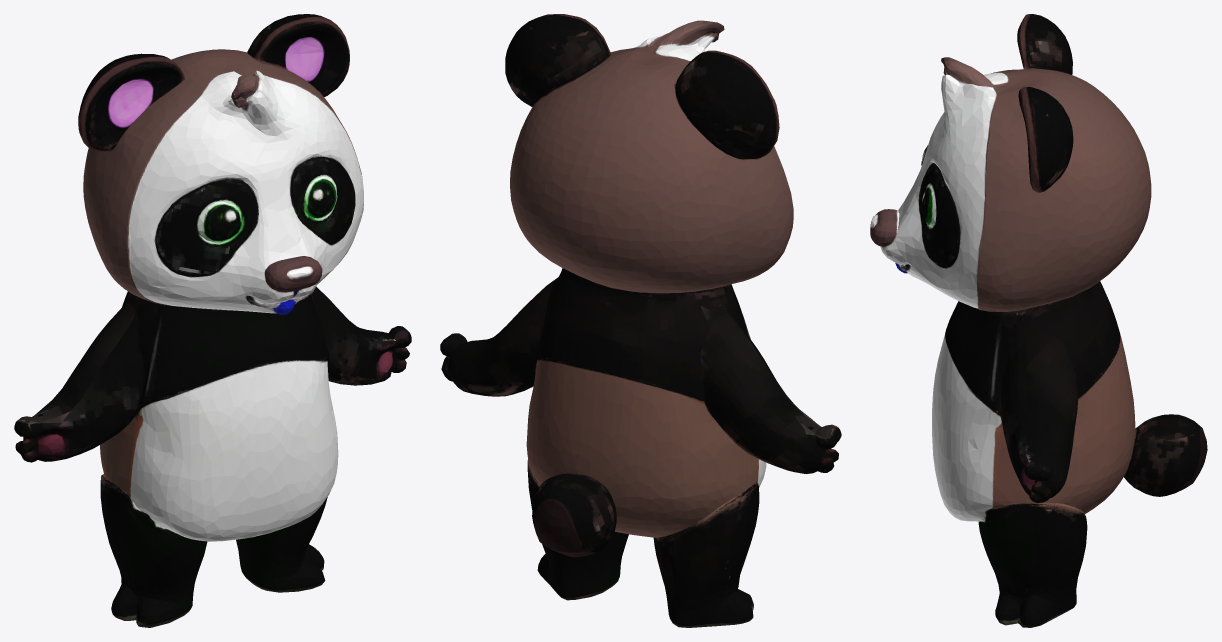
The picture shows the model from 3 angles, left to right: view 1: azimuth 30°, elevation 25°; view 2: azimuth 150°, elevation 25°; view 3: azimuth 270°, elevation 25°; orthographic projection. The views are drawn at different scales.
Parts seen in each view (by area): view 1: world; view 2: world; view 3: world.
Part boxes in pixels (x1,y1,x2,y2): world: [14, 14, 411, 627]; world: [440, 14, 841, 627]; world: [870, 14, 1207, 627].
Bounding box in the file's own units: 0.7346 × 1 × 0.5801.
Materials: 1 (1 with a texture image).
